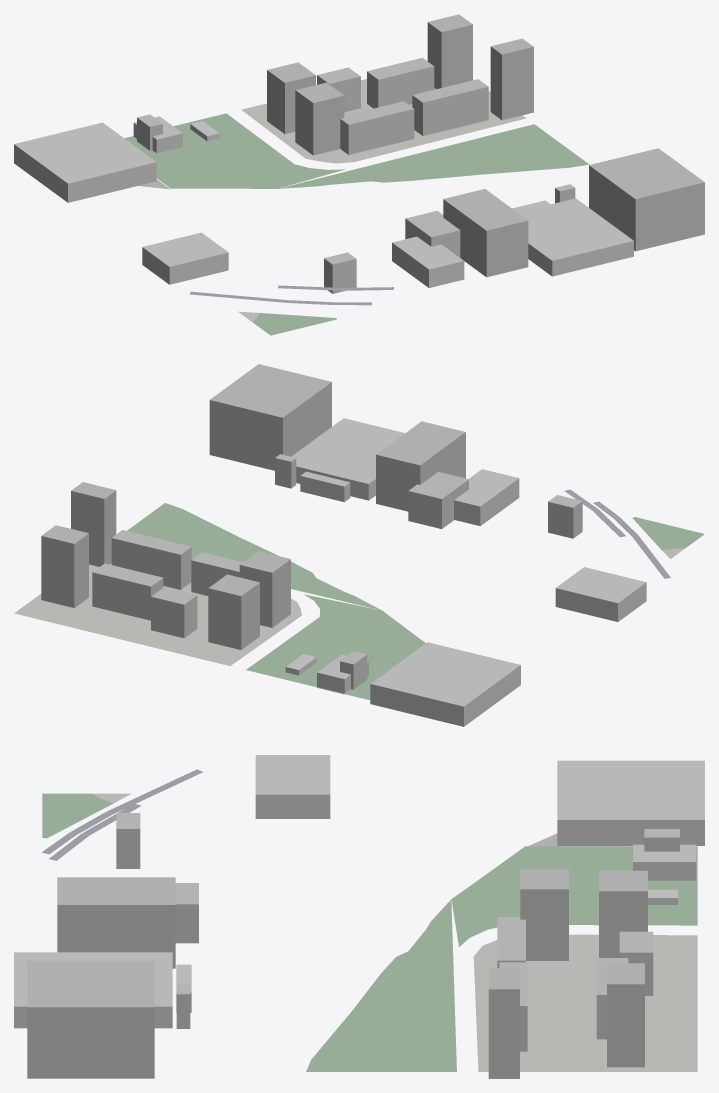
Rendered from 117_89_mid.glb.
3 renders of one model, top to bottom at view 1: azimuth 30°, elevation 25°; view 2: azimuth 150°, elevation 25°; view 3: azimuth 270°, elevation 25°, orthographic. The views are drawn at different scales.
Bounding box in the file's own units: 546 × 76.91 × 527.
